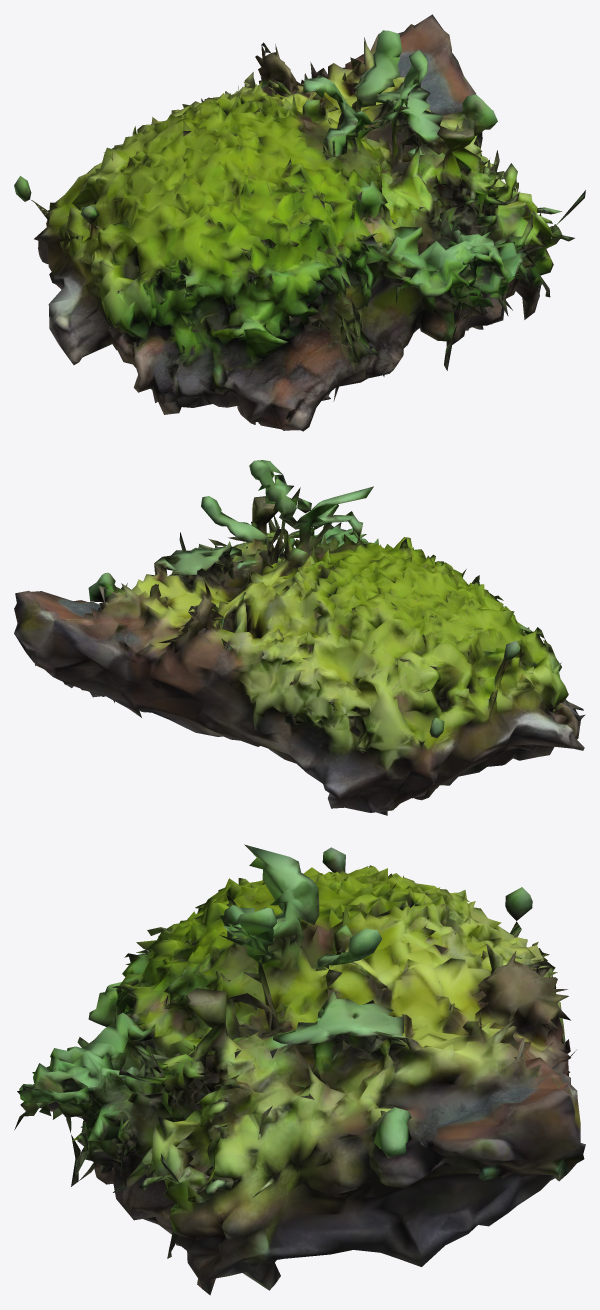
File: moss_clump_natural.glb
3 views of the same model, one above another, from view 1: azimuth 30°, elevation 25°; view 2: azimuth 150°, elevation 25°; view 3: azimuth 270°, elevation 25° (orthographic). The views are drawn at different scales.
Bounding box in the file's own units: 2 × 1.06 × 1.63.
Materials: 1 (1 with a texture image).
